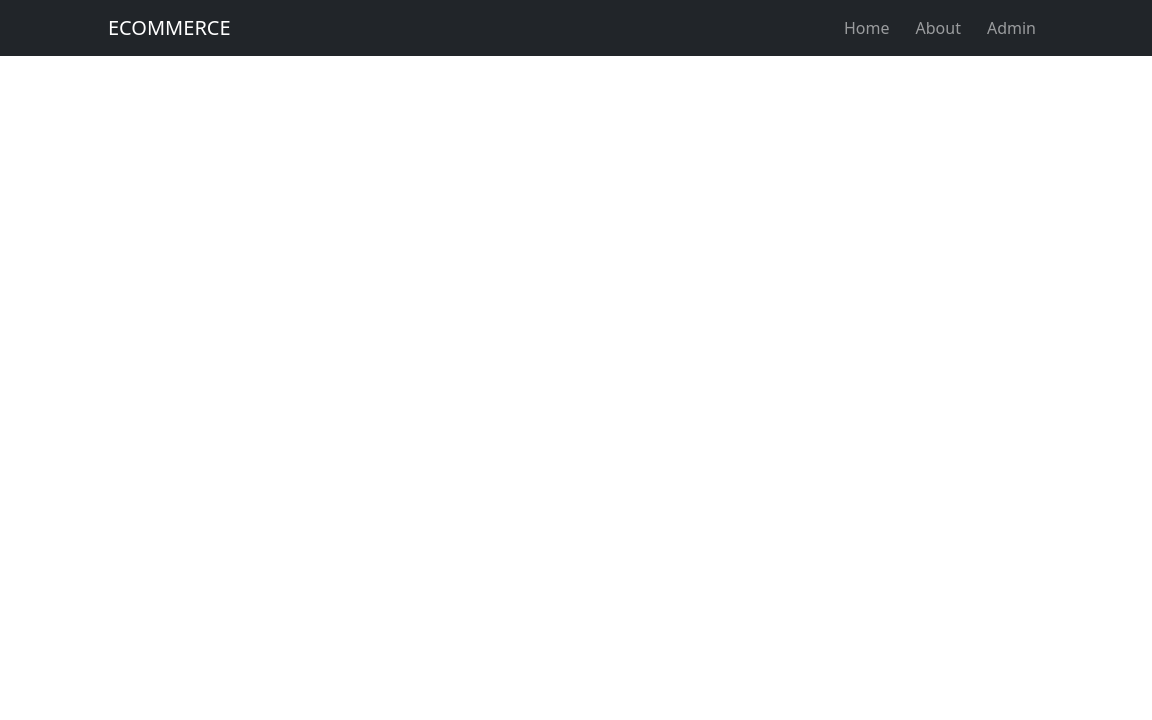
Guest user navigates to the about page › should navigate to the about page
The width and height of the screenshot is (1152, 720).
Click the link to "/about".
click(939, 28)  # box [916,17,961,39]
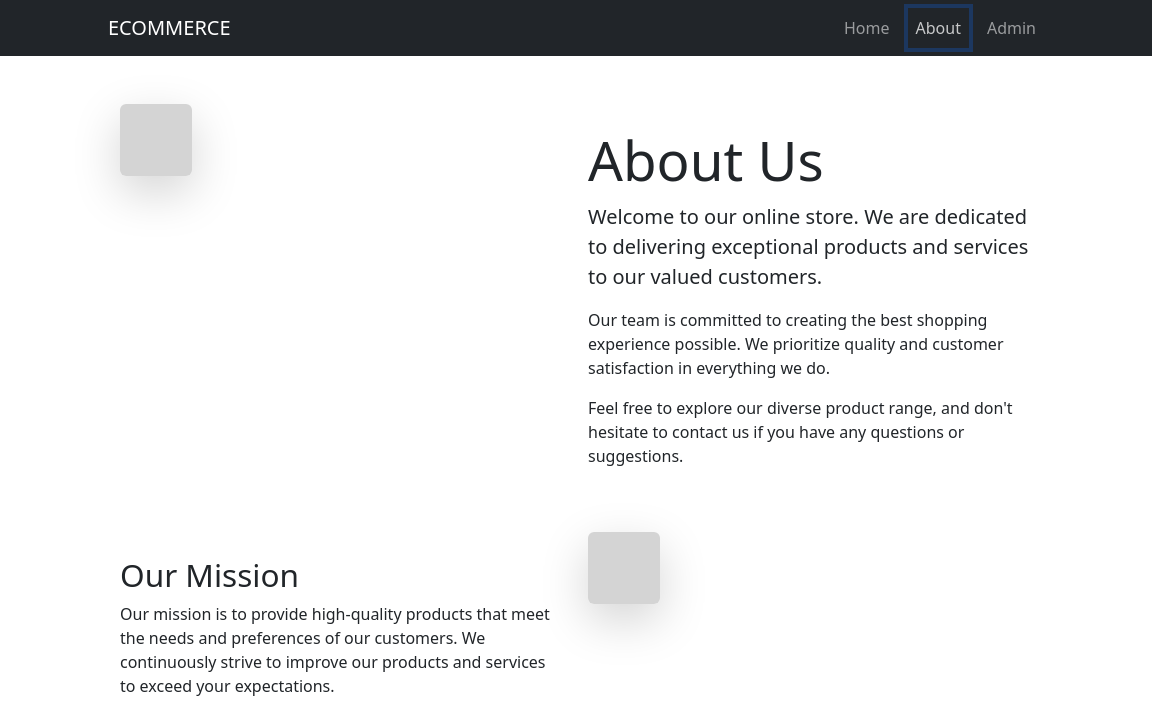
expect the heading "About Us" is shown: met, box [588,123,824,197]
